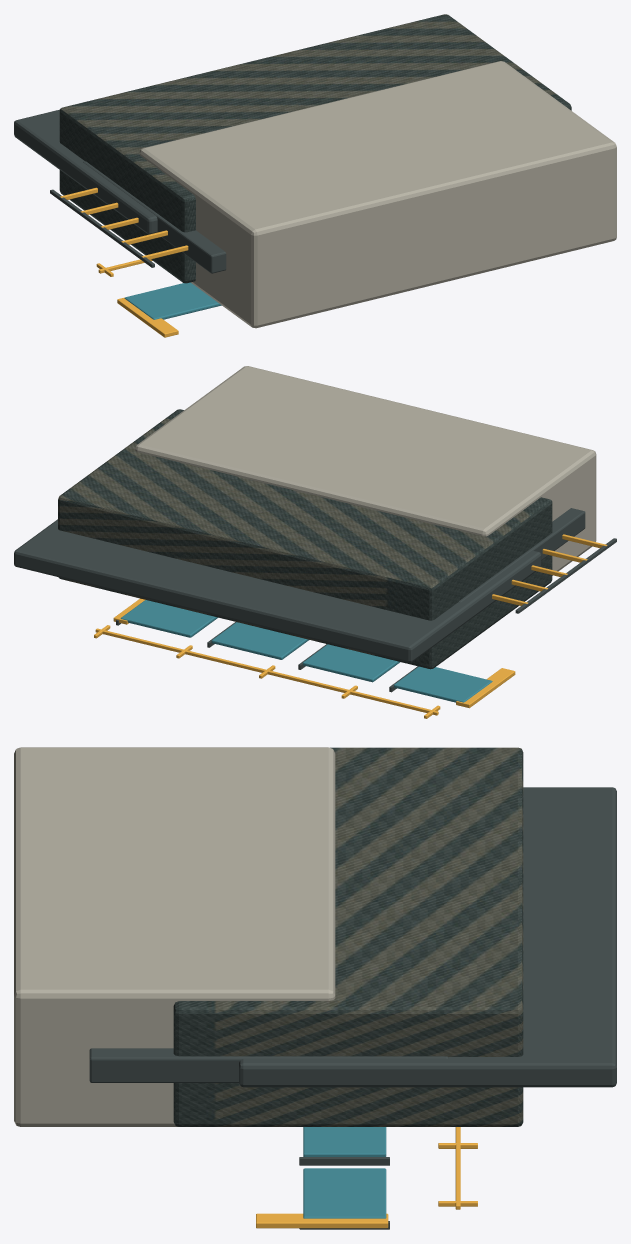
The model's file is iron-junction-control-tower.glb.
The picture shows the model from 3 angles, top to bottom: view 1: azimuth 30°, elevation 25°; view 2: azimuth 150°, elevation 25°; view 3: azimuth 270°, elevation 25°; orthographic projection. The views are drawn at different scales.
Visible parts, largest first — view 1: ijct_base, ijct_control_room, ijct_roof_cap, ijct_front_window_0, ijct_corner_pylon_0, ijct_ladder_left, ijct_side_warning_0; view 2: ijct_control_room, ijct_base, ijct_roof_cap, ijct_front_window_0, ijct_front_window_2, ijct_front_window_1, ijct_front_window_3, ijct_roof_rail_front, ijct_corner_pylon_0, ijct_side_warning_0, ijct_ladder_left; view 3: ijct_base, ijct_control_room, ijct_roof_cap, ijct_corner_pylon_1, ijct_front_window_3, ijct_front_window_2, ijct_side_warning_1, ijct_window_mullion_2.
Boxes of the visible parts, left/top/right/bottom form: ijct_base: left=139, top=61, right=616, bottom=328; ijct_control_room: left=59, top=14, right=571, bottom=283; ijct_roof_cap: left=14, top=109, right=157, bottom=234; ijct_front_window_0: left=124, top=282, right=221, bottom=319; ijct_corner_pylon_0: left=83, top=161, right=226, bottom=273; ijct_ladder_left: left=50, top=189, right=154, bottom=267; ijct_side_warning_0: left=117, top=297, right=178, bottom=337; ijct_control_room: left=58, top=409, right=552, bottom=669; ijct_base: left=135, top=366, right=596, bottom=575; ijct_roof_cap: left=14, top=519, right=541, bottom=662; ijct_front_window_0: left=394, top=666, right=492, bottom=702; ijct_front_window_2: left=211, top=622, right=309, bottom=659; ijct_front_window_1: left=303, top=644, right=400, bottom=682; ijct_front_window_3: left=120, top=600, right=217, bottom=637; ijct_roof_rail_front: left=95, top=628, right=438, bottom=715; ijct_corner_pylon_0: left=459, top=508, right=585, bottom=602; ijct_side_warning_0: left=456, top=668, right=515, bottom=708; ijct_ladder_left: left=515, top=538, right=616, bottom=613; ijct_base: left=14, top=747, right=335, bottom=1126; ijct_control_room: left=173, top=747, right=523, bottom=1126; ijct_roof_cap: left=239, top=787, right=616, bottom=1087; ijct_corner_pylon_1: left=89, top=1048, right=448, bottom=1082; ijct_front_window_3: left=303, top=1168, right=386, bottom=1218; ijct_front_window_2: left=303, top=1127, right=386, bottom=1156; ijct_side_warning_1: left=256, top=1213, right=388, bottom=1228; ijct_window_mullion_2: left=299, top=1157, right=389, bottom=1165.
Size of the model in its own units: 38.14 by 13.91 by 31.9.
6 materials, 1 textured.
